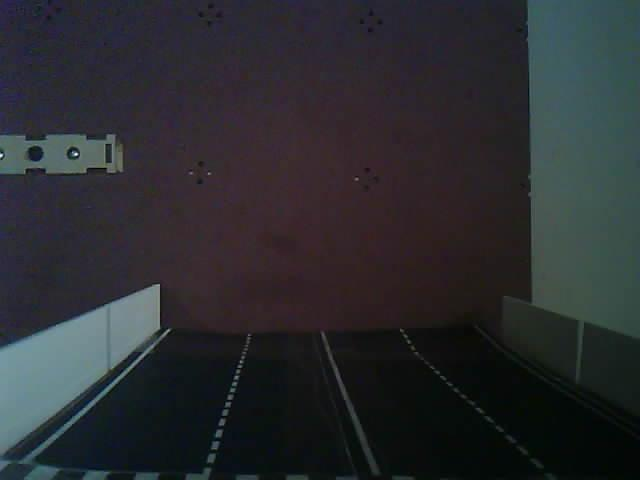crosswalk: (0, 421, 617, 480)
no: (0, 101, 140, 199)
